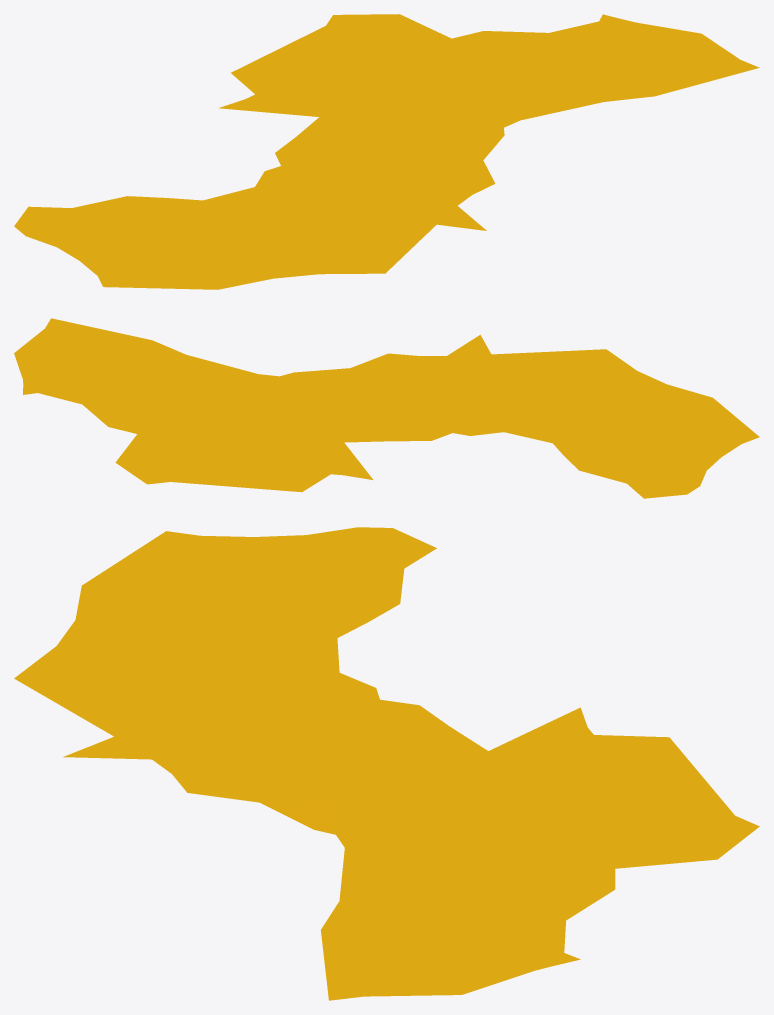
File: world08_road_10_alpha.obj
3 views of the same model, one above another, from view 1: azimuth 30°, elevation 25°; view 2: azimuth 150°, elevation 25°; view 3: azimuth 270°, elevation 25° (orthographic). The views are drawn at different scales.
Visible parts, largest first — view 1: world08_road_10_alpha; view 2: world08_road_10_alpha; view 3: world08_road_10_alpha.
Part boxes in pixels (<box>): world08_road_10_alpha: <box>14,14,759,289</box>; world08_road_10_alpha: <box>14,318,759,498</box>; world08_road_10_alpha: <box>14,527,759,1000</box>.
Bounding box in the file's own units: 113 × 0.02 × 75.31.
